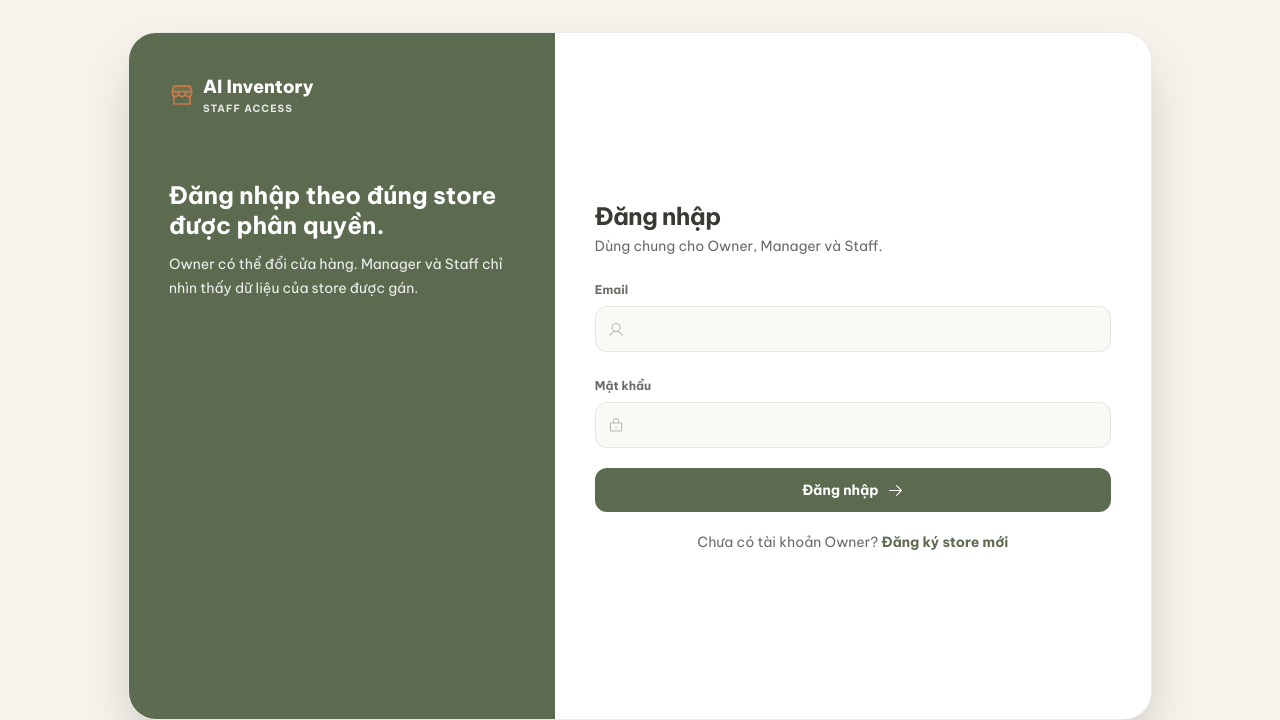
Test: public authentication pages › renders a safe login failure without losing form semantics
Type "staff@example.com" into the field labelled "Email" at [865, 329], box [632, 307, 1098, 351]
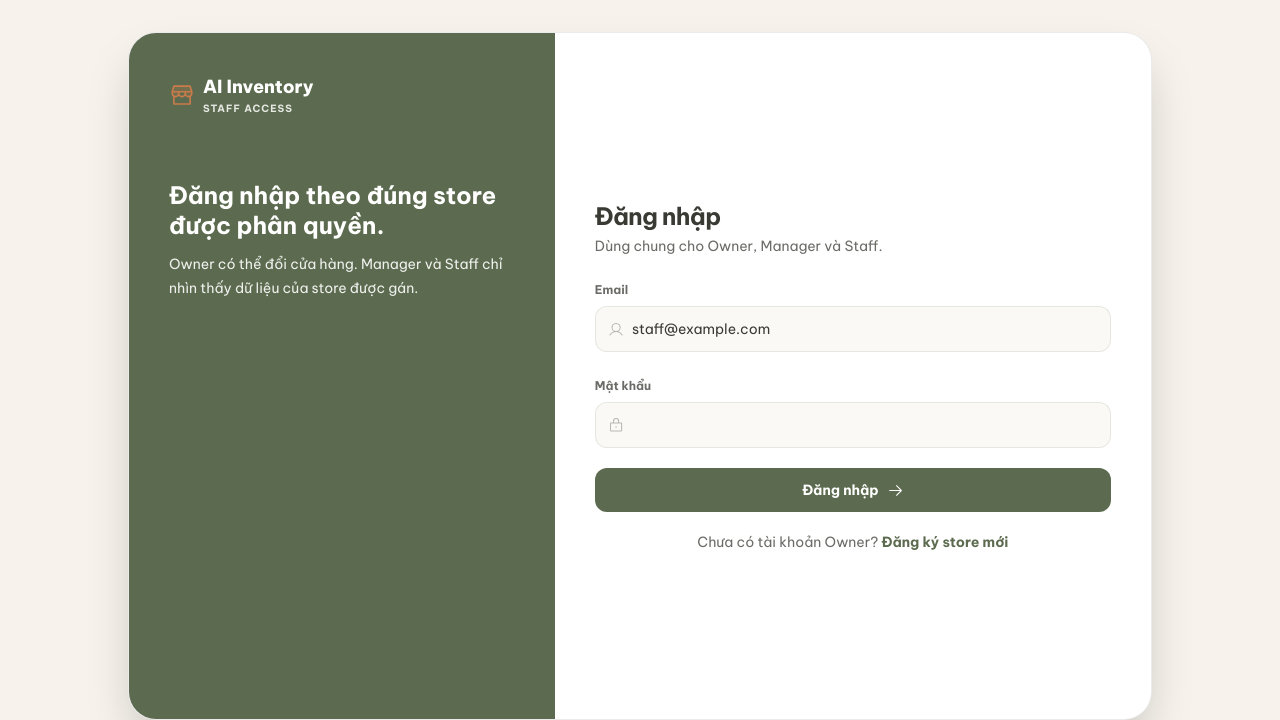
Type "secret123" into the password field labelled "Mật khẩu" at [865, 425], box [632, 403, 1098, 447]
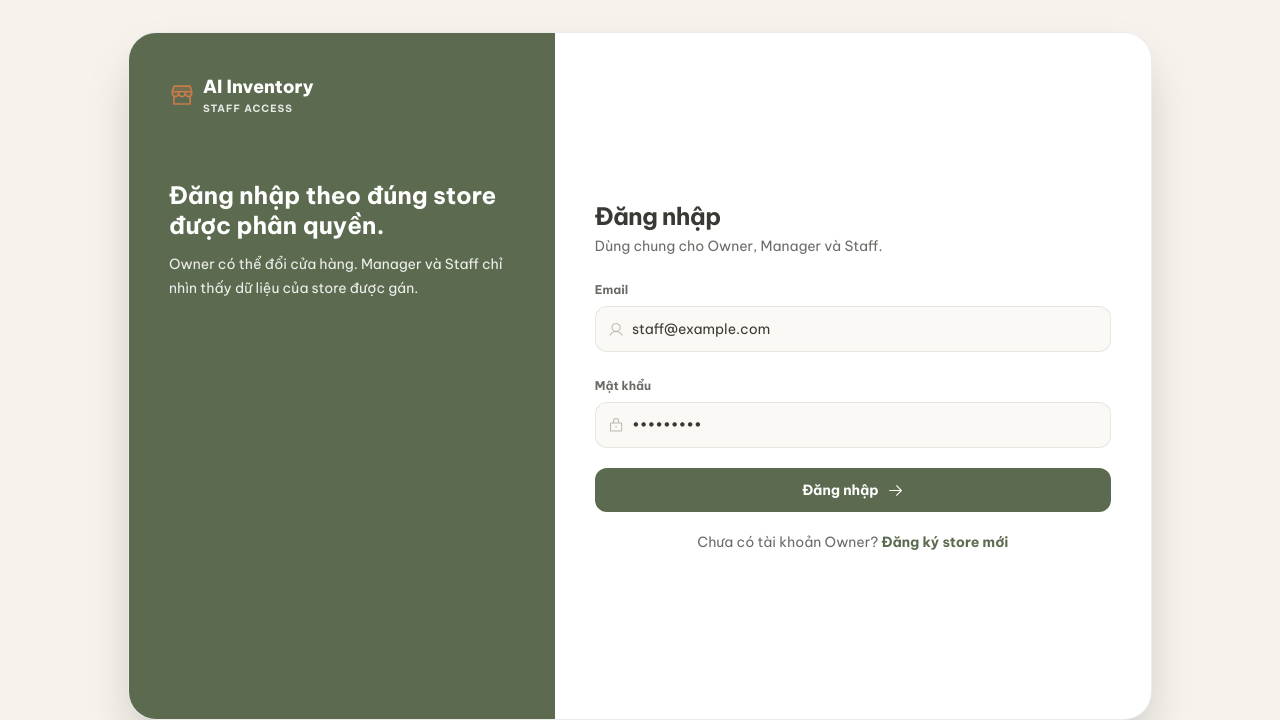
Click the button "Đăng nhập" at [853, 490], box [595, 468, 1111, 512]
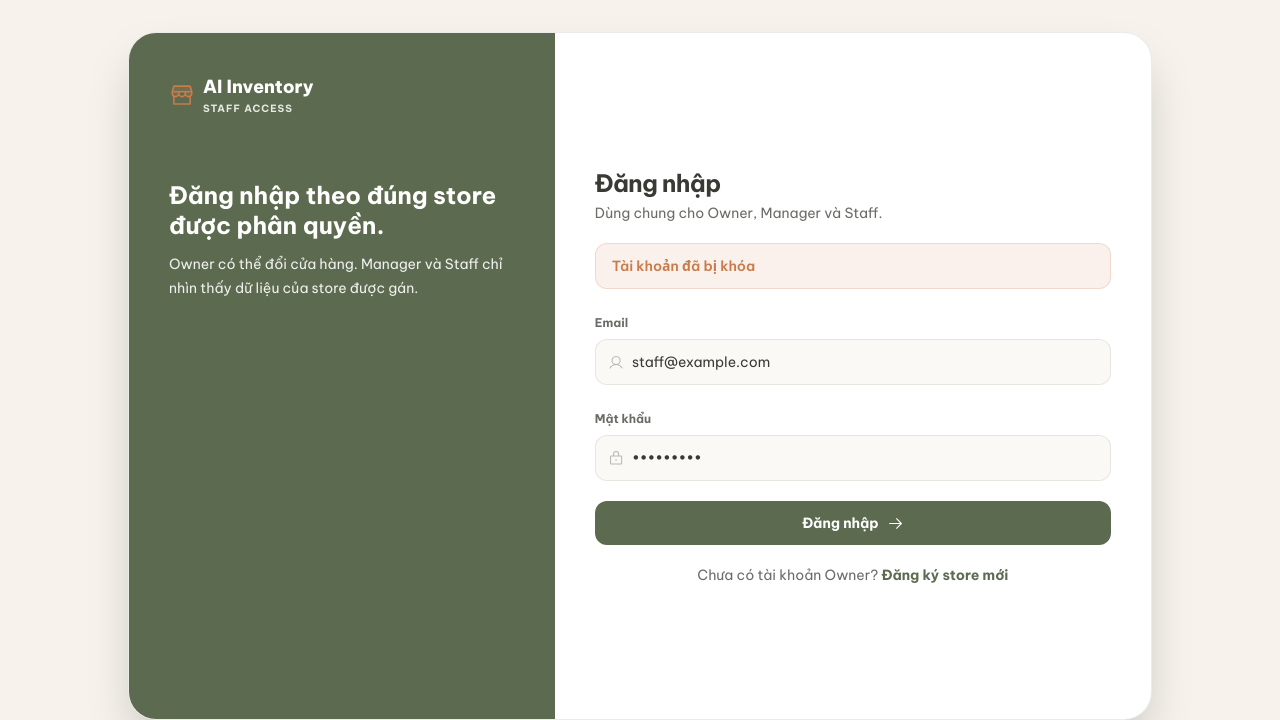
Now the text "Tài khoản đã bị khóa" is shown, box [595, 243, 1111, 289]
